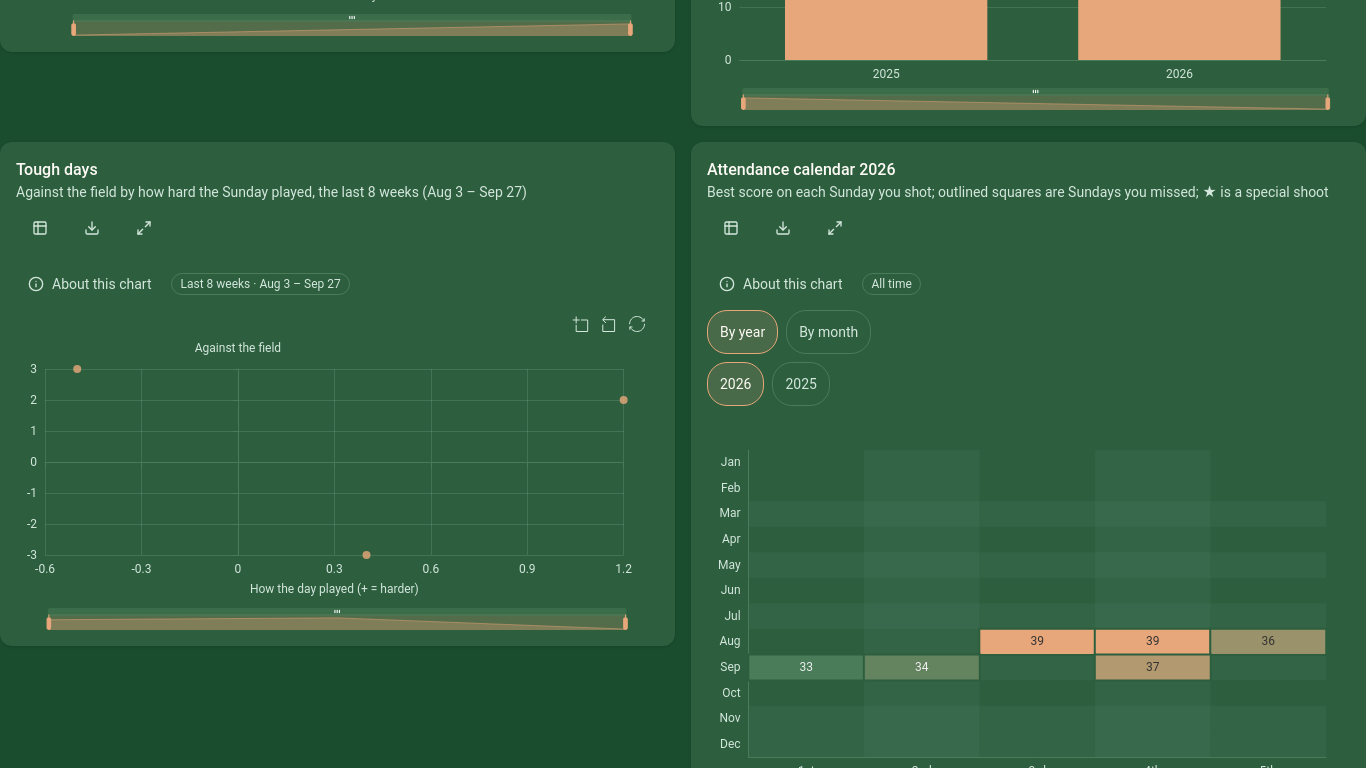
Test: ProfileCharts › the attendance calendar switches between the years the shooter attended
(page scrolled)
Click the button "2025" at (801, 384), box x1=772 y1=362 x2=830 y2=406
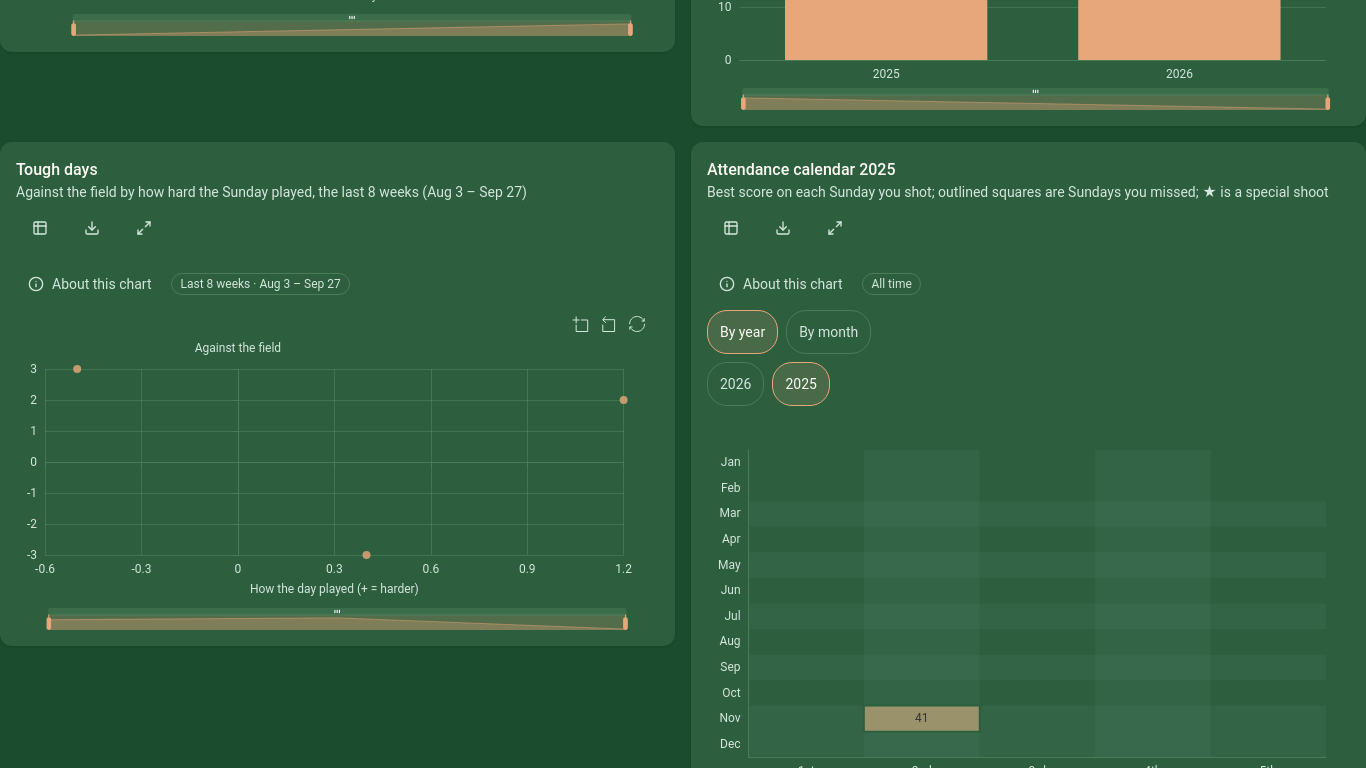
Result: the heading "Attendance calendar 2025" is shown at x1=707 y1=160 x2=896 y2=179
